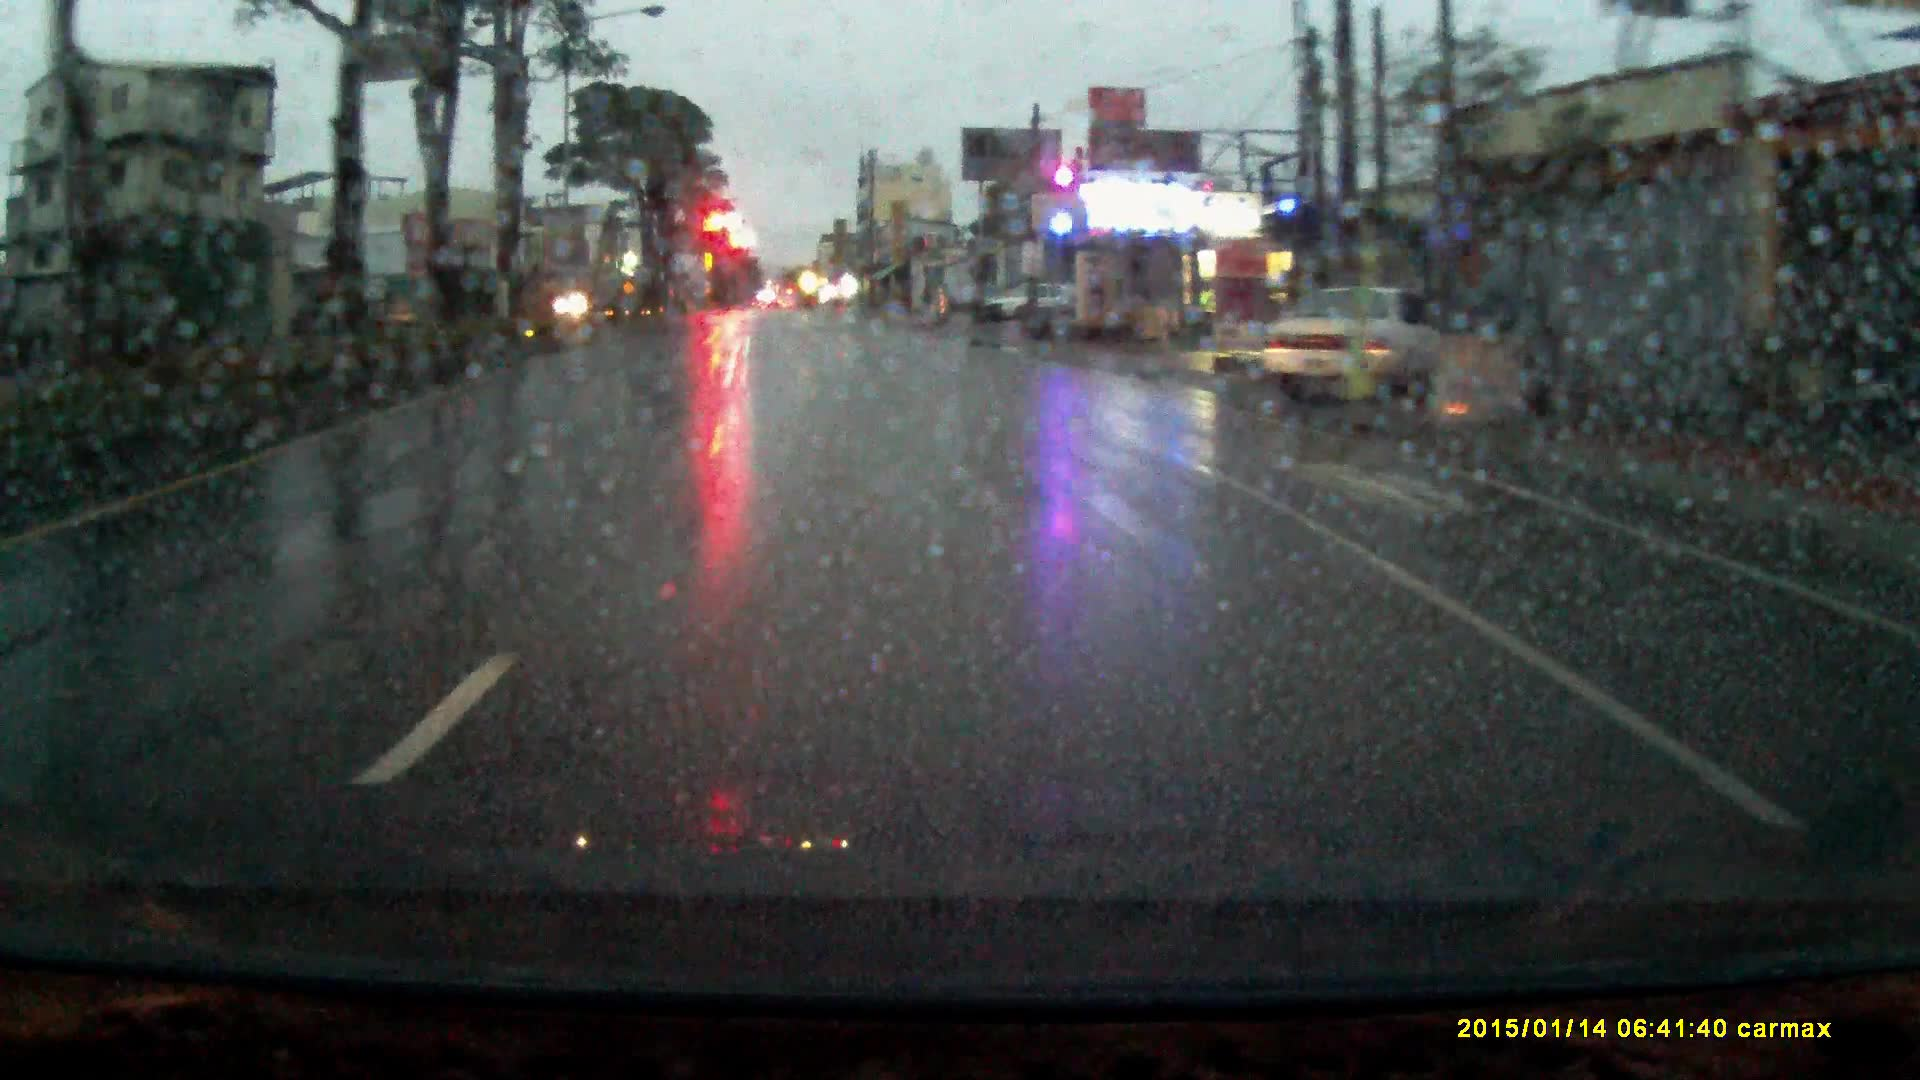vehicle: (1265, 286, 1447, 402), (982, 284, 1065, 326), (554, 290, 599, 322)
